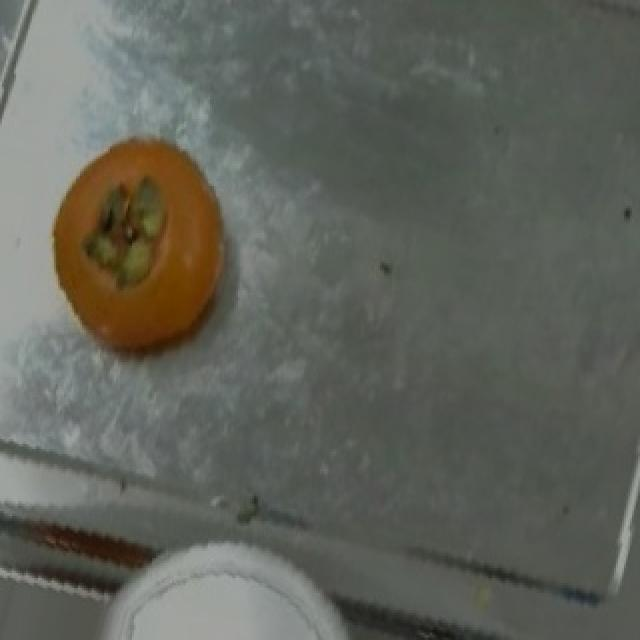Fruit: (22, 116, 252, 380), (112, 511, 342, 640)
